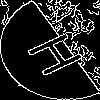H: (25, 25, 97, 79)
